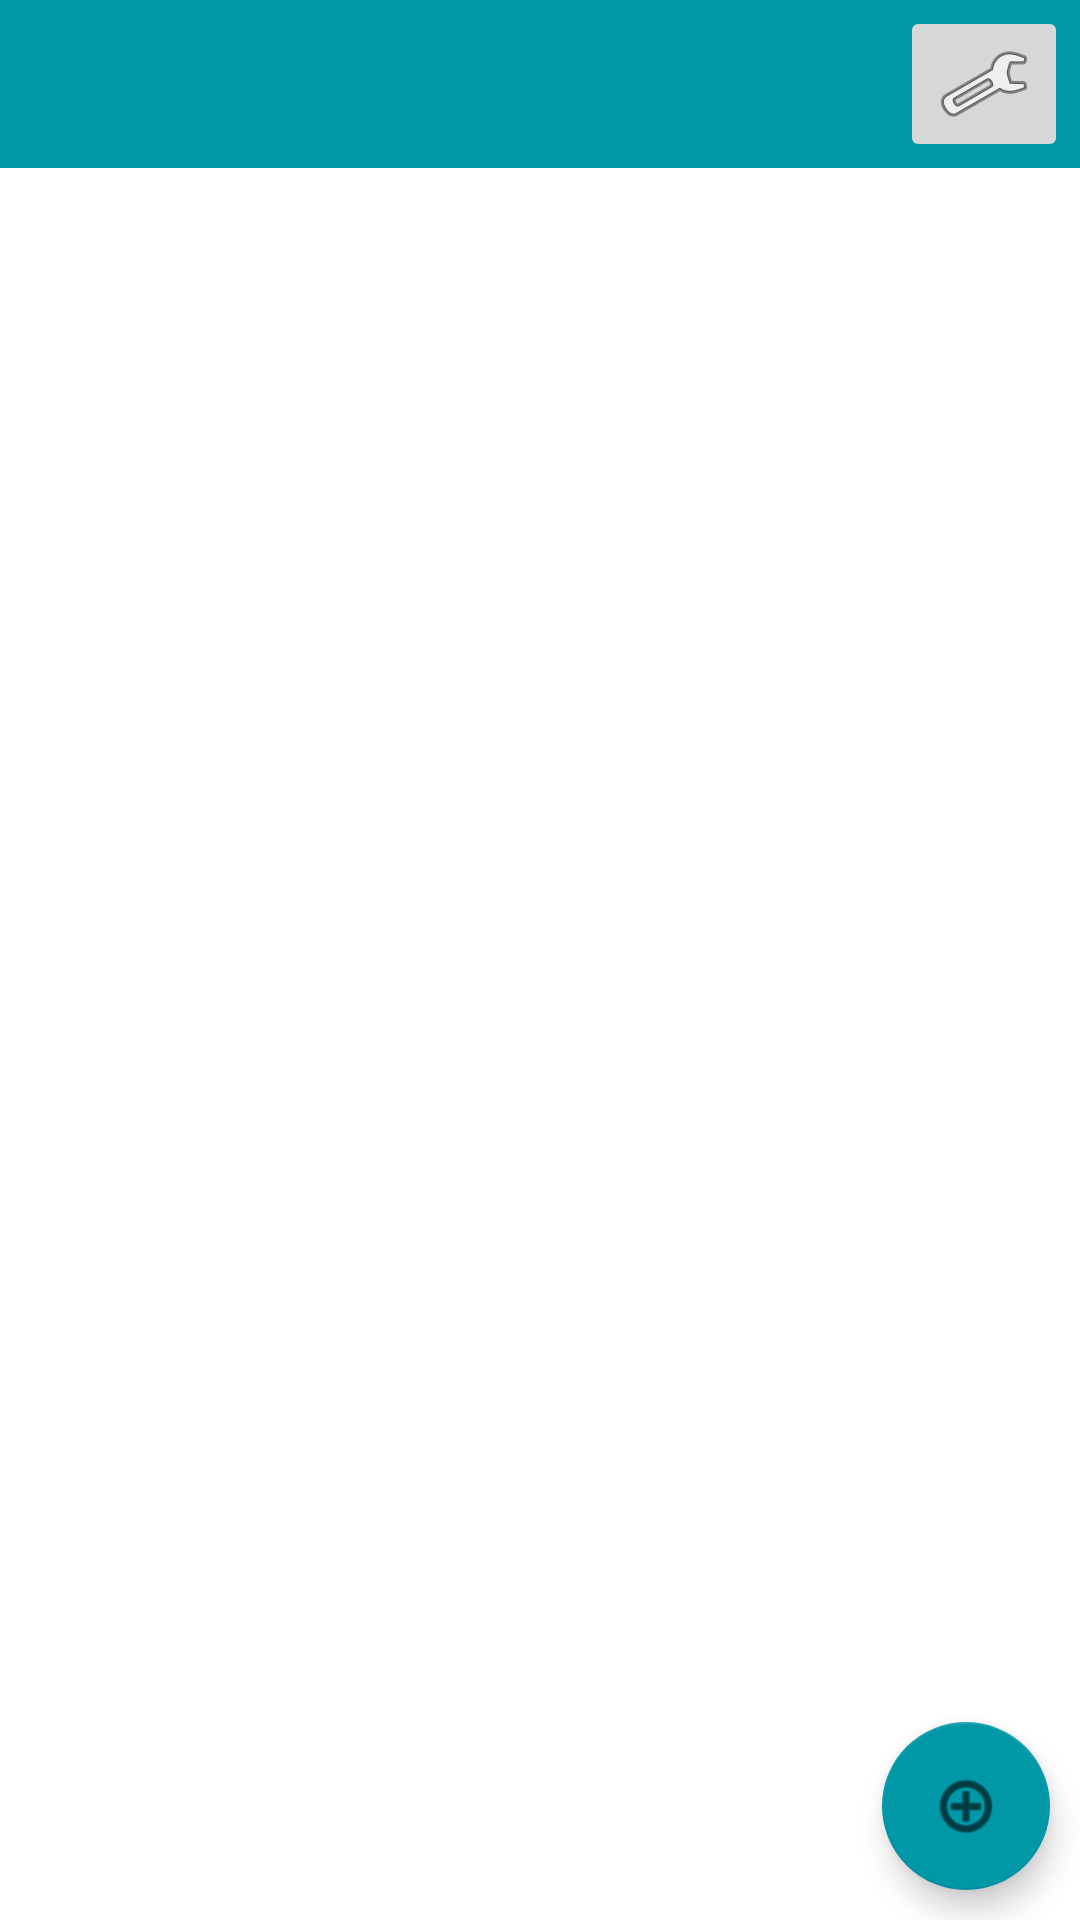

Where to tap for icons on this 1080 x 1920 app screen, as point (x, y):
add: point (966, 1806)
preferences: point (984, 84)
